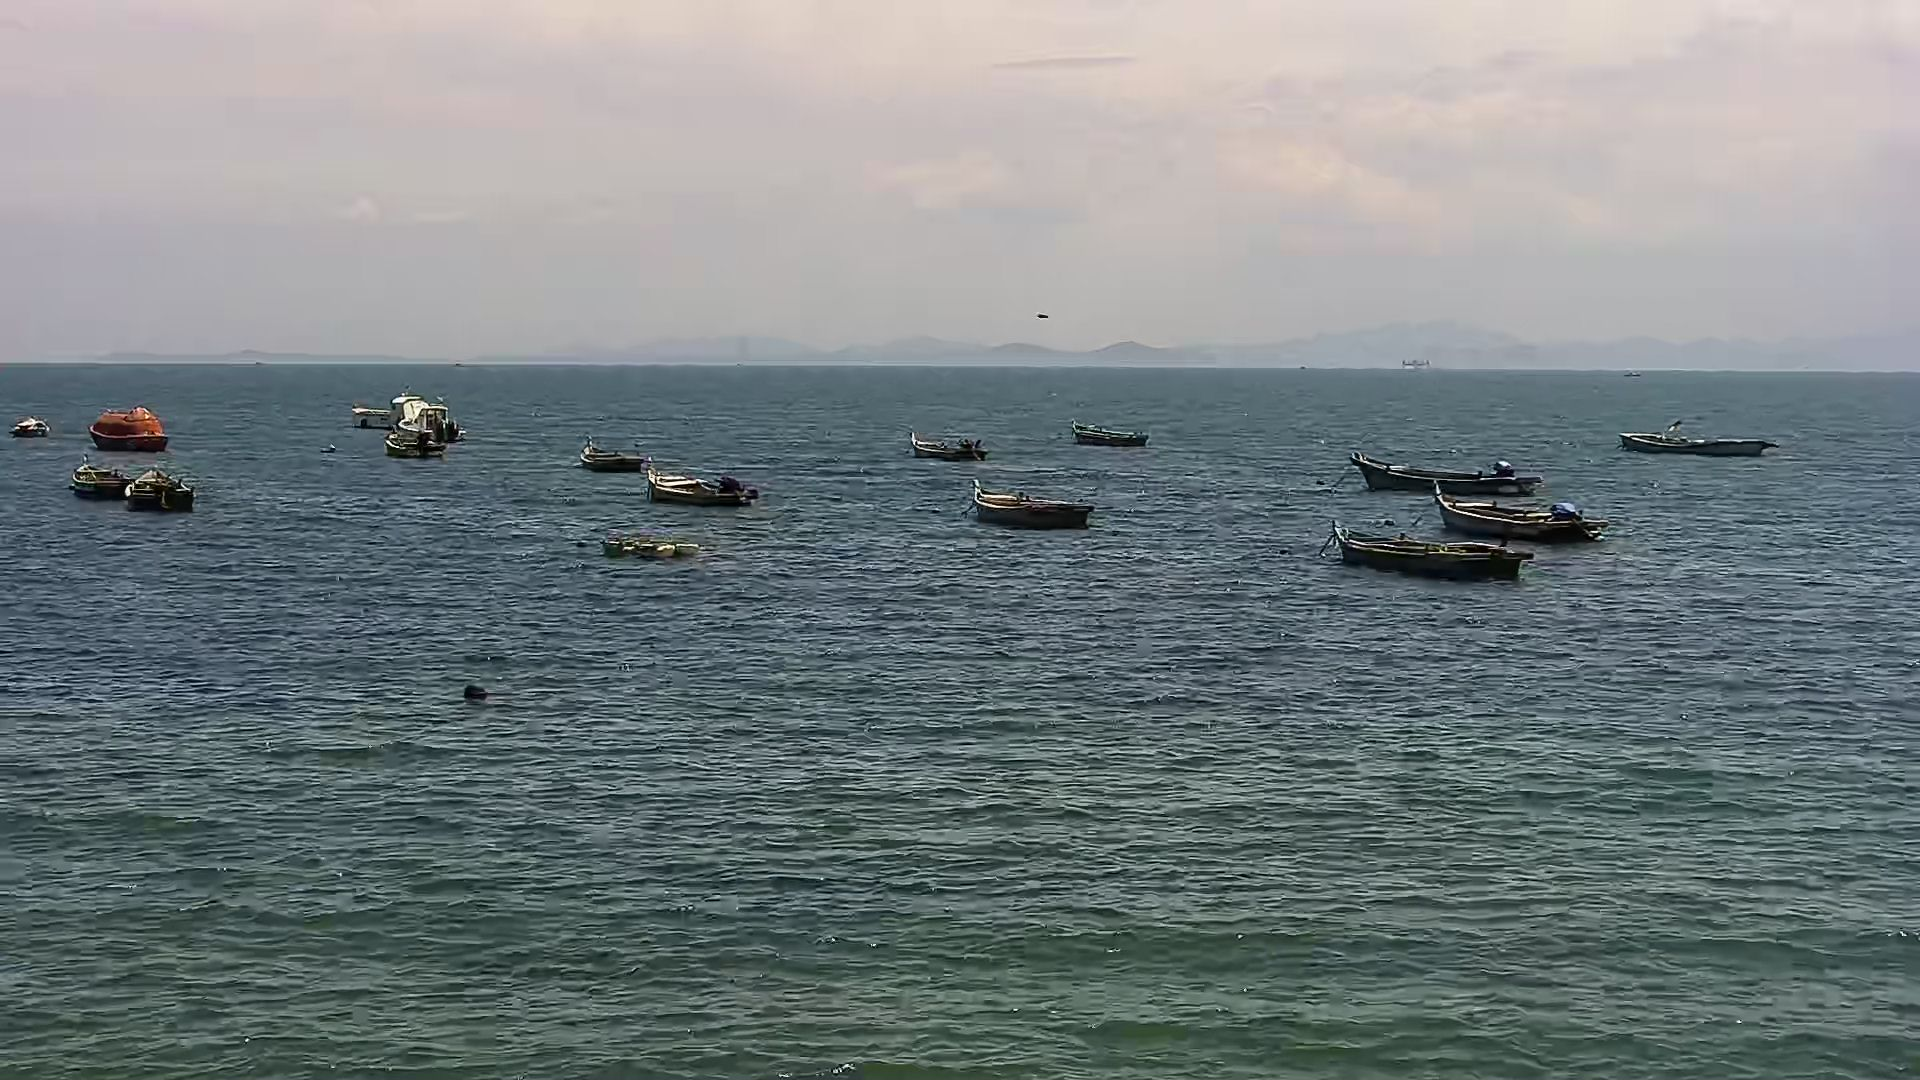ball: (448, 675, 493, 709)
boat: (1317, 510, 1540, 591), (1424, 472, 1633, 546), (963, 471, 1117, 546), (1337, 446, 1543, 497), (1607, 417, 1788, 469), (640, 458, 766, 529), (74, 392, 185, 455), (340, 386, 464, 440), (589, 520, 713, 568), (115, 454, 204, 516), (1064, 406, 1160, 460), (898, 415, 1001, 465), (564, 422, 651, 477), (376, 413, 458, 471), (61, 450, 135, 505), (4, 404, 55, 443), (1614, 363, 1651, 382)
platform: (1393, 353, 1448, 375)
